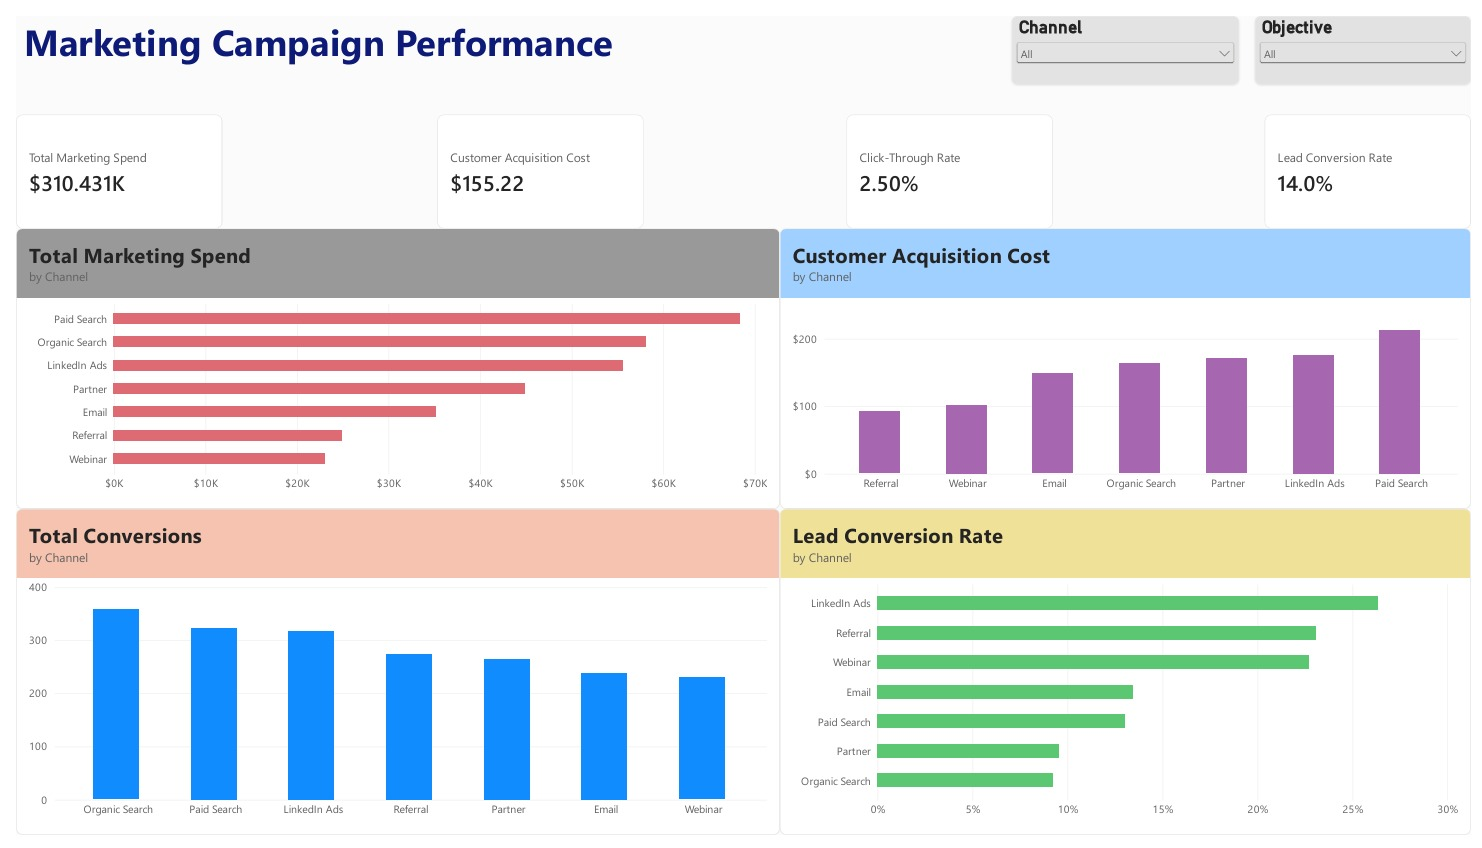

Layout of this report page (visuals, bound fields, positions):
{"tool":"powerbi","page":{"name":"Marketing Performance","canvas":[1920,1080],"ordinal":2},"visuals":[{"type":"textbox","box":[10,0,878,90],"z":0},{"type":"cardVisual","fields":{"Data":["Campaigns.Total Marketing Spend"]},"box":[0,130,272,150],"z":1000},{"type":"cardVisual","fields":{"Data":["Campaigns.Customer Acquisition Cost"]},"box":[556,130,272,150],"z":2000},{"type":"cardVisual","fields":{"Data":["Campaigns.Click-Through Rate"]},"box":[1096,130,272,150],"z":3000},{"type":"cardVisual","fields":{"Data":["Campaigns.Lead Conversion Rate"]},"box":[1648,130,272,150],"z":4000},{"type":"clusteredBarChart","fields":{"Category":["Campaigns.Channel"],"Y":["Campaigns.Total Marketing Spend"]},"box":[0,280,1008,370],"z":5000},{"type":"clusteredColumnChart","fields":{"Category":["Campaigns.Channel"],"Y":["Campaigns.Total Conversions"]},"box":[0,650,1008,430],"z":6000},{"type":"clusteredColumnChart","fields":{"Category":["Campaigns.Channel"],"Y":["Campaigns.Customer Acquisition Cost"]},"box":[1008,280,912,370],"z":7000},{"type":"clusteredBarChart","fields":{"Category":["Campaigns.Channel"],"Y":["Campaigns.Lead Conversion Rate"]},"box":[1008,650,912,430],"z":8000},{"type":"slicer","fields":{"Values":["Campaigns.Channel"]},"box":[1313.8,0,300,90],"z":9000},{"type":"slicer","fields":{"Values":["Campaigns.Objective"]},"box":[1635,0,285,90],"z":10000}]}

Visuals, with their boxes in screenshot pixels (x1, y1, x2, y2), scaled from the page's 1920x1080 canvas onto the 1482x848 screenshot:
textbox: locate(8, 0, 685, 71)
cardVisual - Campaigns.Total Marketing Spend: locate(0, 102, 210, 220)
cardVisual - Campaigns.Customer Acquisition Cost: locate(429, 102, 639, 220)
cardVisual - Campaigns.Click-Through Rate: locate(846, 102, 1056, 220)
cardVisual - Campaigns.Lead Conversion Rate: locate(1272, 102, 1481, 220)
clusteredBarChart - Campaigns.Channel x Campaigns.Total Marketing Spend: locate(0, 220, 778, 510)
clusteredColumnChart - Campaigns.Channel x Campaigns.Total Conversions: locate(0, 510, 778, 847)
clusteredColumnChart - Campaigns.Channel x Campaigns.Customer Acquisition Cost: locate(778, 220, 1481, 510)
clusteredBarChart - Campaigns.Channel x Campaigns.Lead Conversion Rate: locate(778, 510, 1481, 847)
slicer - Campaigns.Channel: locate(1014, 0, 1246, 71)
slicer - Campaigns.Objective: locate(1262, 0, 1481, 71)
